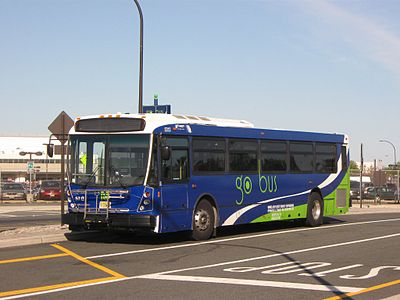bus: (65, 111, 350, 241)
